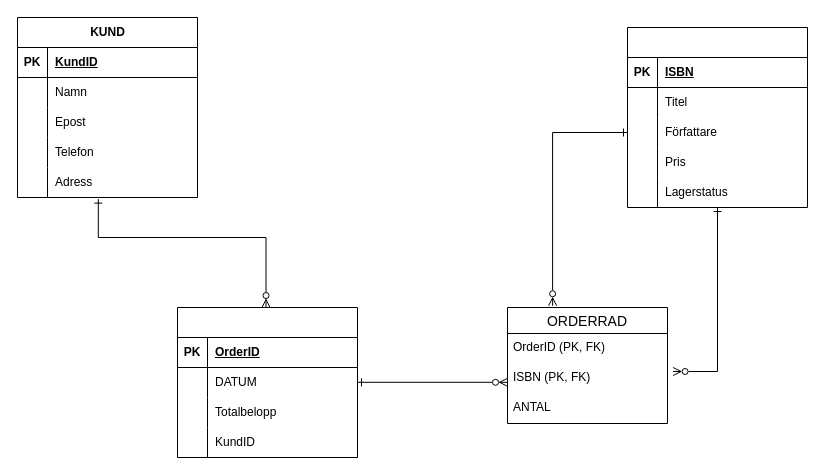
Image size: 825x475. Some labels were removed from this diagram. Here are the shapes that lost their labels. From the top down, the box of each, then its label:
(626, 26, 808, 208): BOK
(176, 306, 358, 458): BESTÄLLNING
